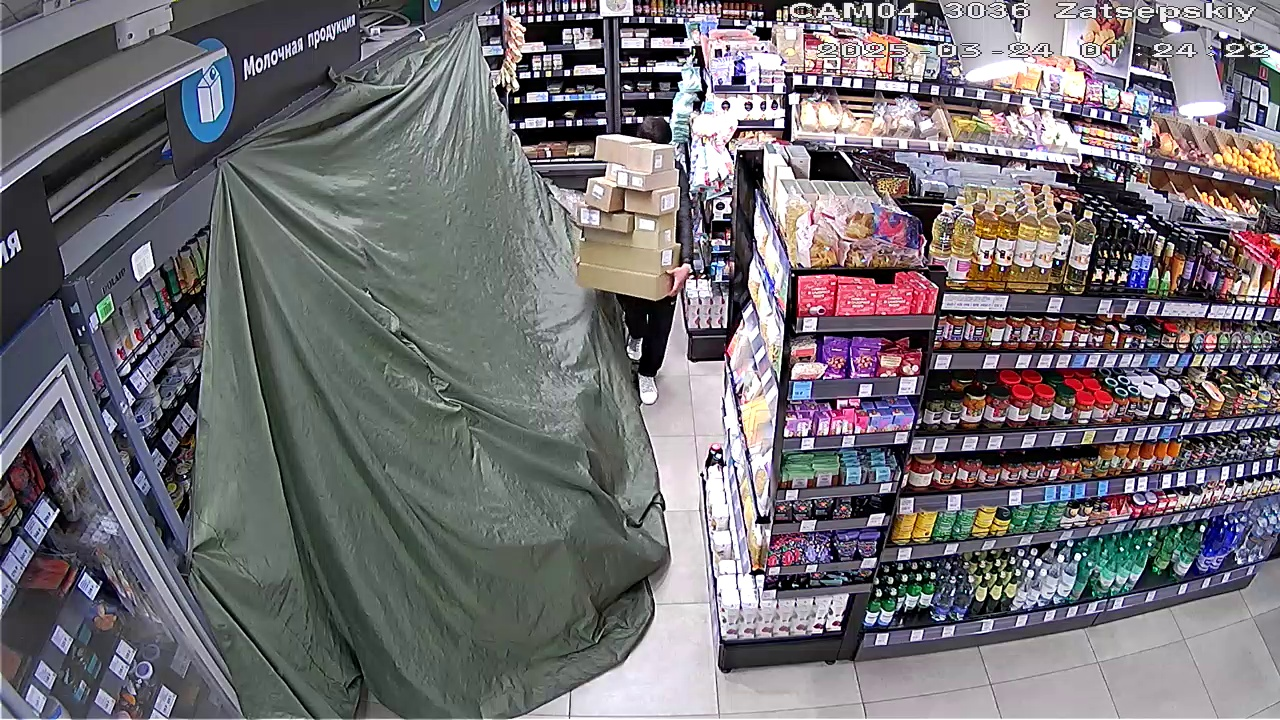Human: (605, 105, 707, 396)
dome: (209, 70, 654, 706)
